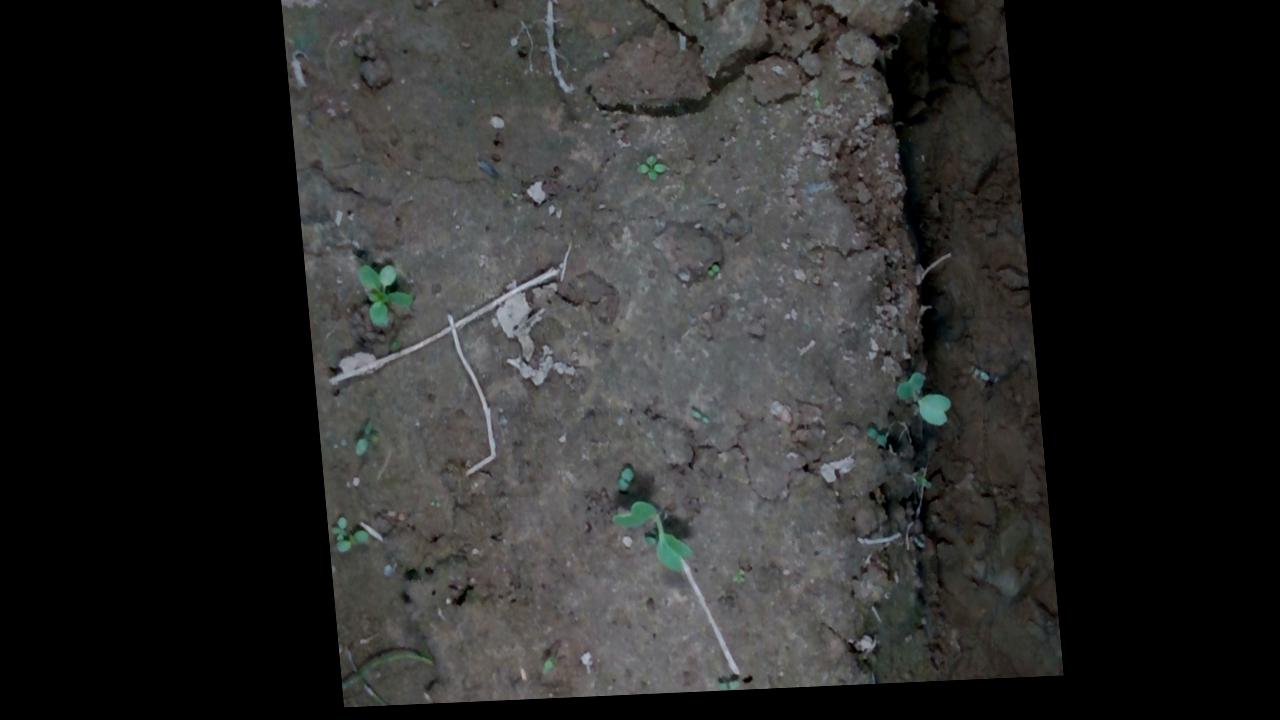weed: (349, 266, 407, 337), (628, 159, 664, 193), (603, 474, 626, 500)
